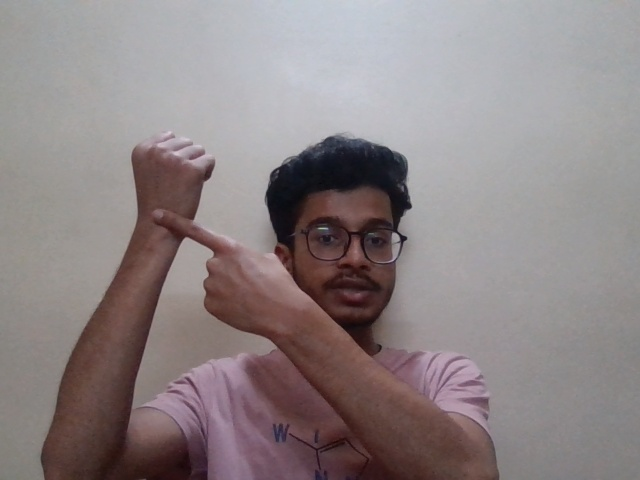time: (113, 116, 296, 344)
